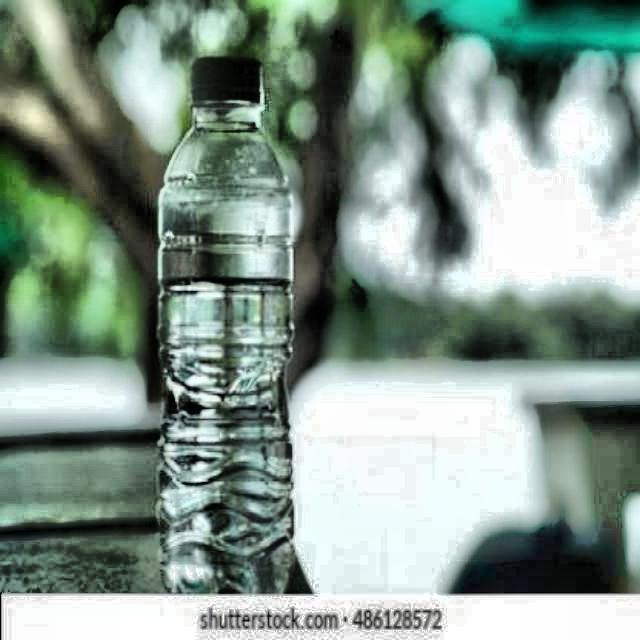Bottles: (147, 48, 294, 422)
